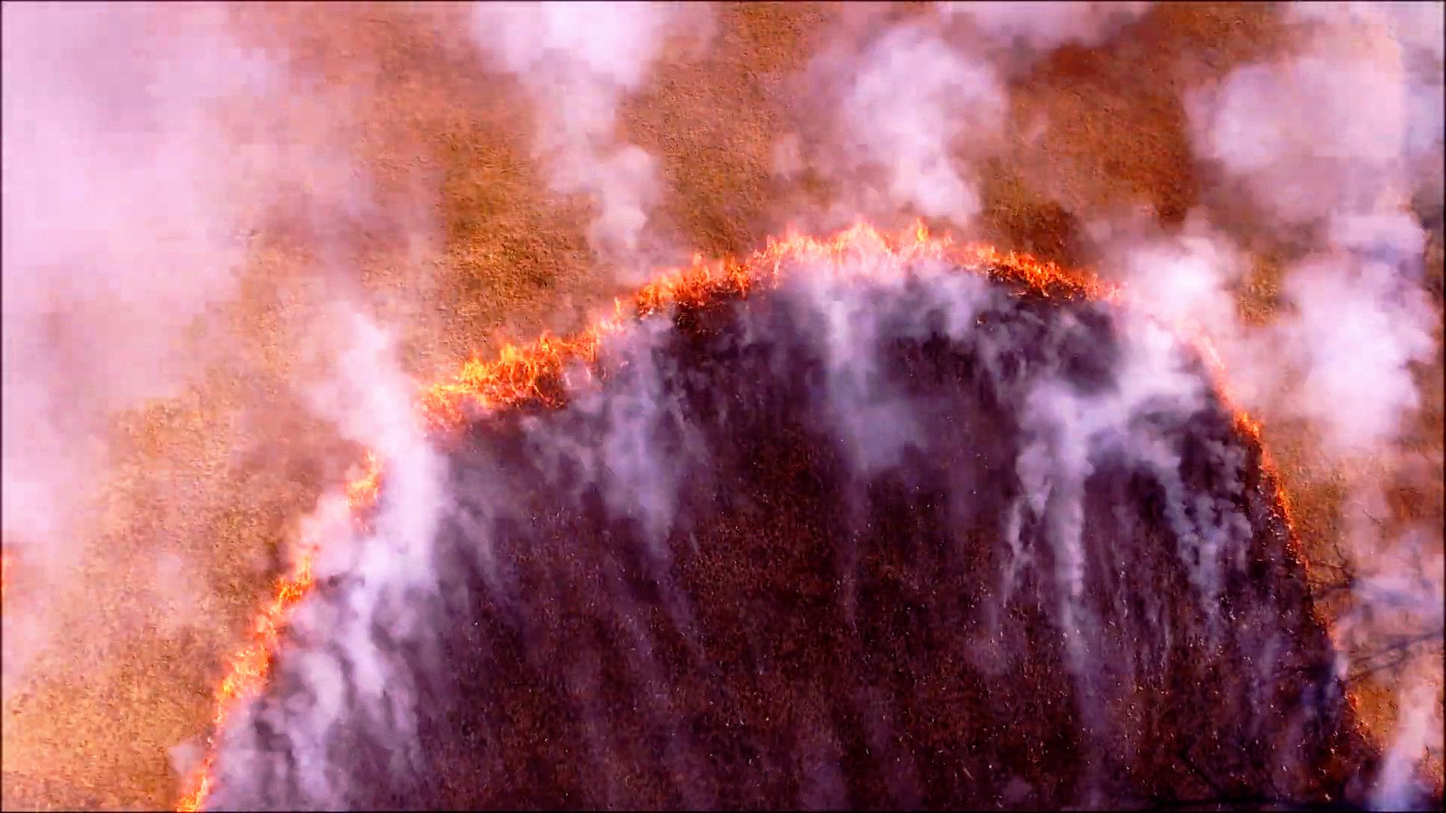fire: (435, 325, 603, 410), (770, 212, 936, 292), (952, 234, 1109, 308), (633, 239, 773, 305)
smoke: (1179, 4, 1446, 813), (471, 0, 719, 565), (987, 305, 1197, 644), (316, 433, 463, 805)
